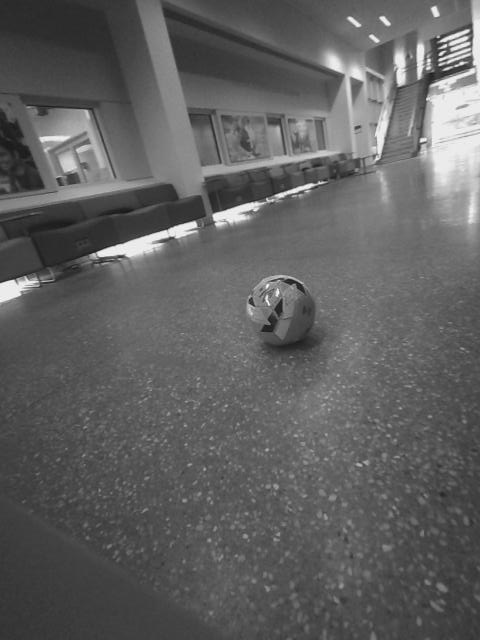ball: (241, 271, 329, 354)
